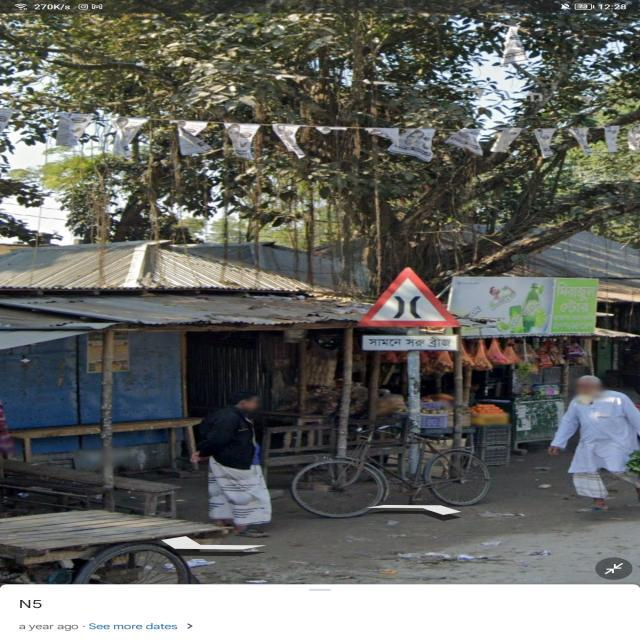Ahead-of-the-bridge: (355, 264, 461, 360)
